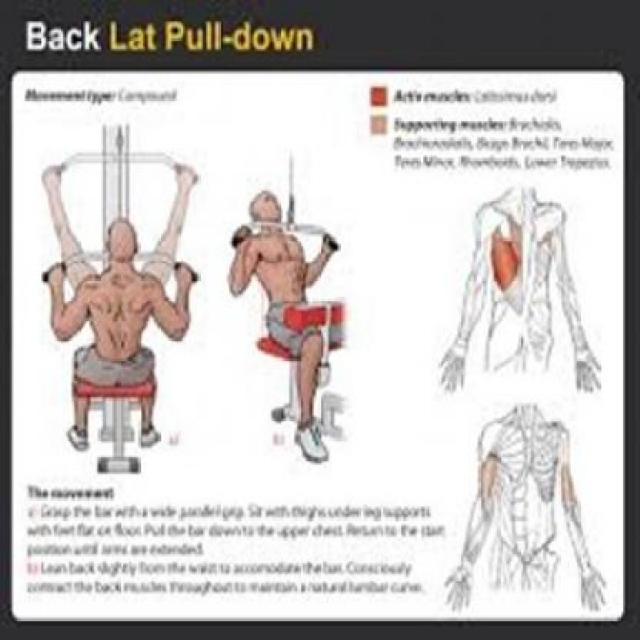Lat Pull Down: (23, 109, 203, 480), (228, 130, 364, 482)
